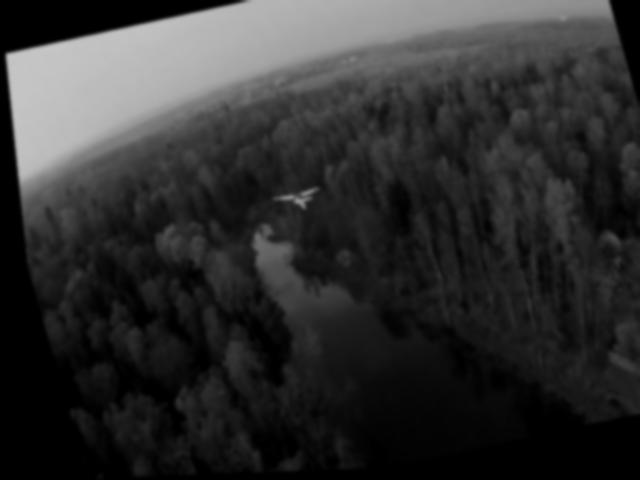hedef: (256, 180, 331, 224)
